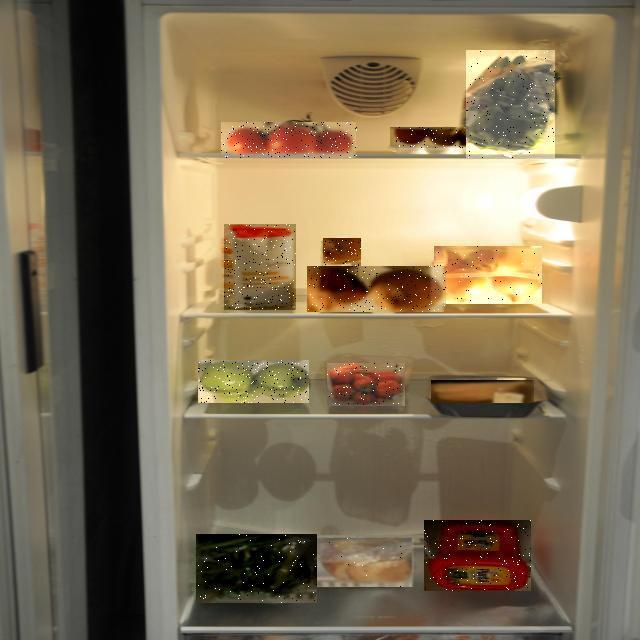Apple: (198, 360, 309, 403)
Beans: (196, 534, 317, 603)
Bread: (318, 538, 416, 587)
Butter: (424, 520, 531, 591)
Eggs: (390, 128, 466, 150)
Heavy cream: (323, 238, 361, 292)
Meat: (432, 380, 536, 403)
Onion: (434, 246, 542, 304)
Spinach: (466, 50, 555, 158)
Straw Berry: (327, 363, 405, 406)
Sugar: (224, 224, 296, 310)
Sweet potato: (308, 267, 448, 313)
Tomato Paste: (222, 122, 358, 158)
